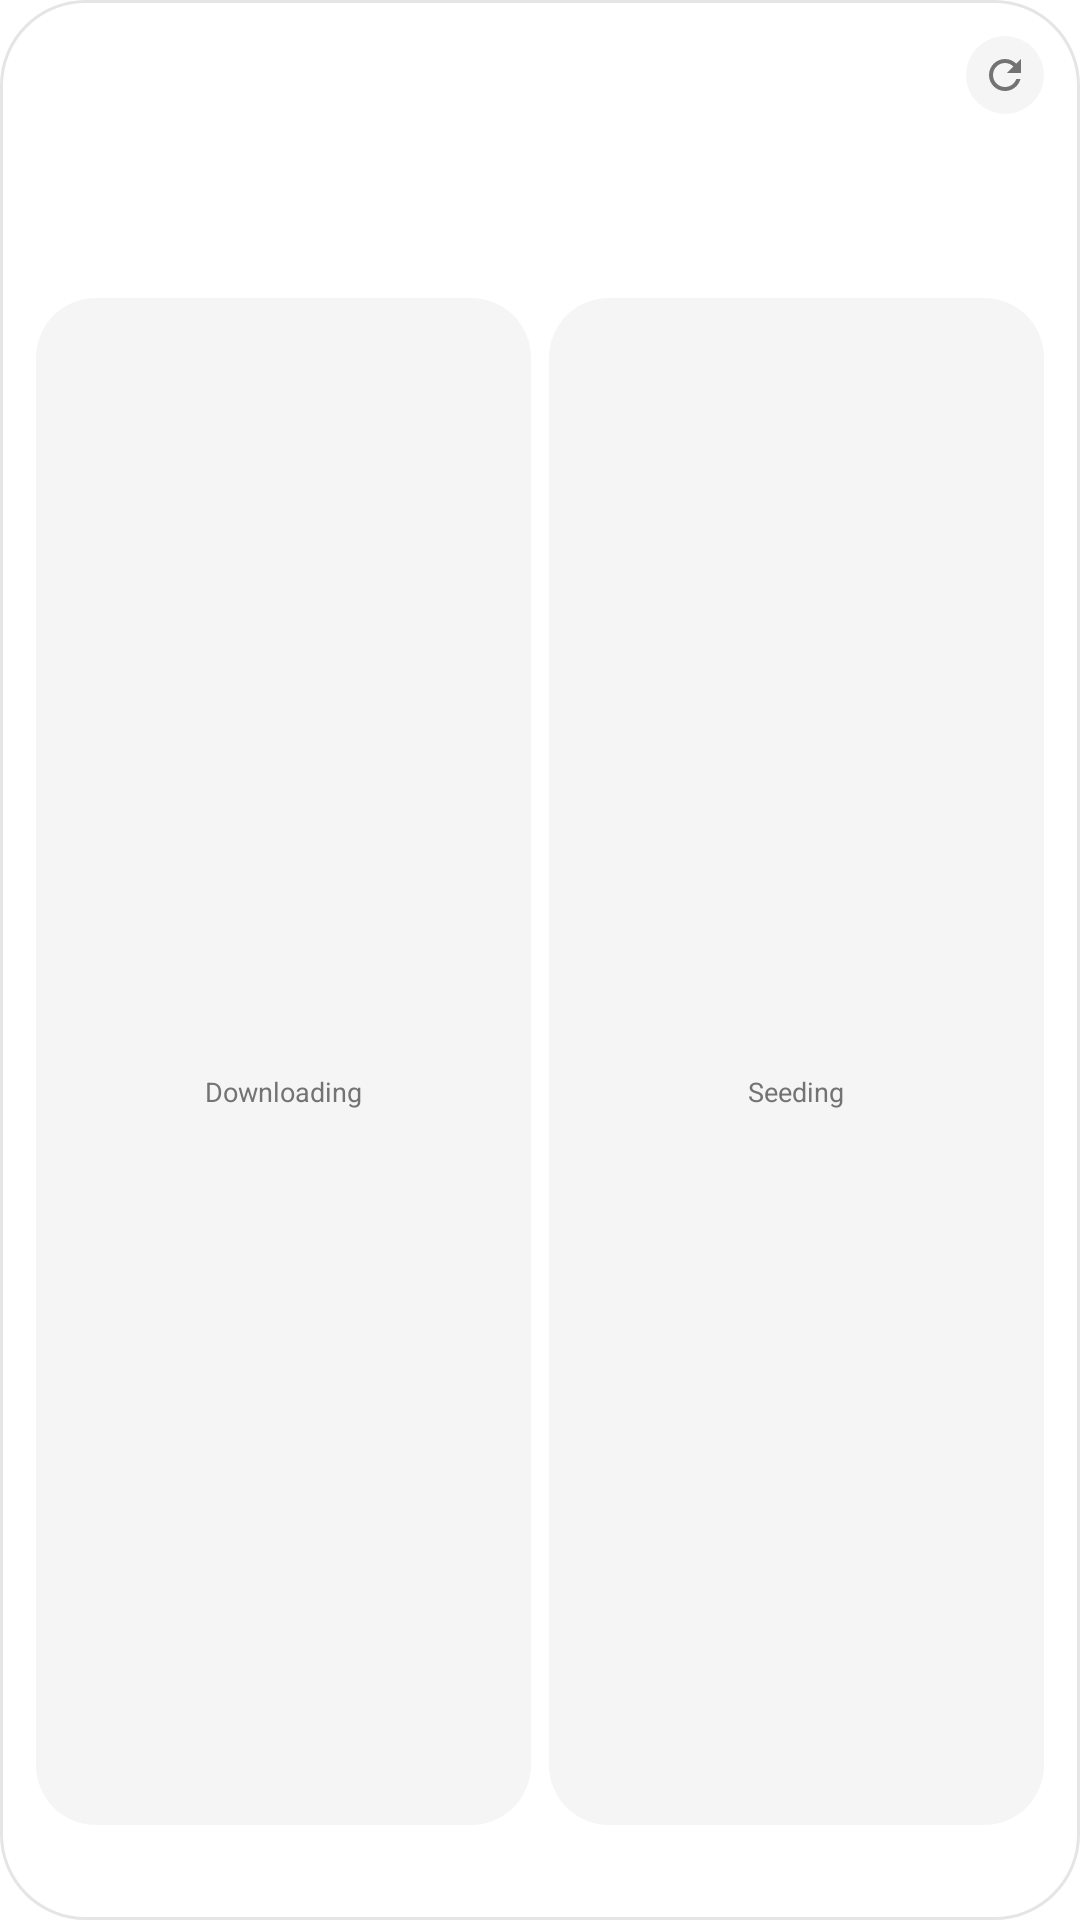

Icon bounding boxes for this 1080x1920 phone screenshot, format bbox(x1, y1, x2, y2):
Refresh: bbox(966, 36, 1044, 114)
